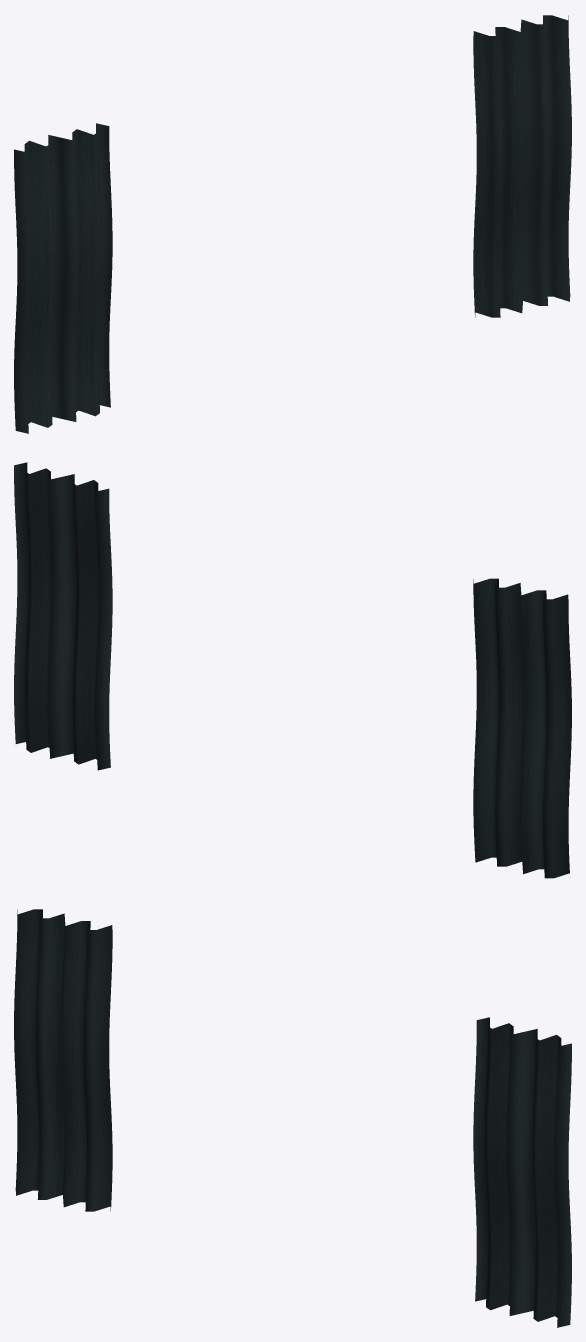
Rendered from curtains.glb.
The picture shows the model from 3 angles, top to bottom: view 1: azimuth 30°, elevation 25°; view 2: azimuth 150°, elevation 25°; view 3: azimuth 330°, elevation 25°; orthographic projection.
Parts seen in each view (by area): view 1: Curtain, Curtain.001; view 2: Curtain.001, Curtain; view 3: Curtain.001, Curtain.
Boxes of the visible parts, <box> form: Curtain: <box>14,123,112,433</box>; Curtain.001: <box>473,15,571,317</box>; Curtain.001: <box>14,462,112,770</box>; Curtain: <box>473,578,571,878</box>; Curtain.001: <box>473,1017,571,1327</box>; Curtain: <box>14,909,112,1211</box>.
Bounding box in the file's own units: 4.66 × 2.25 × 0.2351.
Materials: 1 (1 with a texture image).
